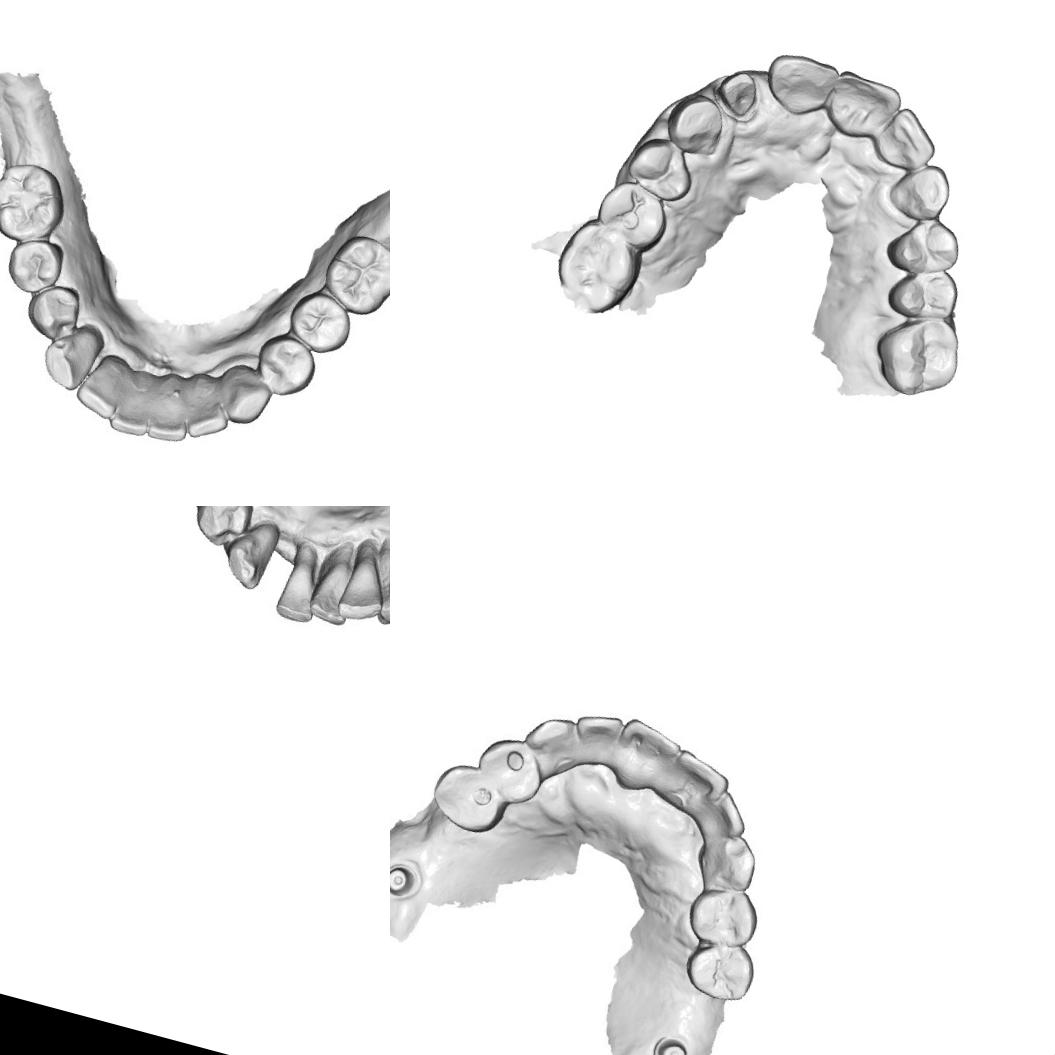abutment: (643, 1026, 694, 1055), (390, 858, 420, 903)
canine: (881, 152, 962, 230), (32, 318, 106, 398), (657, 85, 732, 162), (688, 824, 759, 900), (216, 518, 280, 592), (518, 708, 584, 776), (214, 362, 275, 428), (363, 543, 390, 629)
crown: (709, 63, 766, 122)
incisor: (820, 65, 906, 149), (758, 46, 844, 124), (873, 102, 946, 179), (613, 716, 685, 786), (304, 542, 364, 624), (271, 542, 325, 626), (338, 544, 390, 623), (668, 748, 730, 808), (182, 376, 236, 442), (78, 344, 131, 410), (107, 378, 157, 441), (570, 710, 626, 766), (700, 790, 752, 846), (146, 379, 192, 440)
molar: (545, 209, 650, 321), (863, 303, 970, 408), (315, 228, 390, 320), (0, 157, 71, 251)
premolar: (424, 754, 513, 842), (587, 174, 676, 257), (618, 130, 703, 208), (882, 207, 968, 284), (468, 730, 549, 810), (678, 931, 760, 1008), (880, 258, 966, 330), (285, 284, 360, 359), (682, 882, 759, 952), (253, 332, 319, 400), (2, 232, 66, 299), (29, 279, 82, 339), (192, 506, 248, 550)
